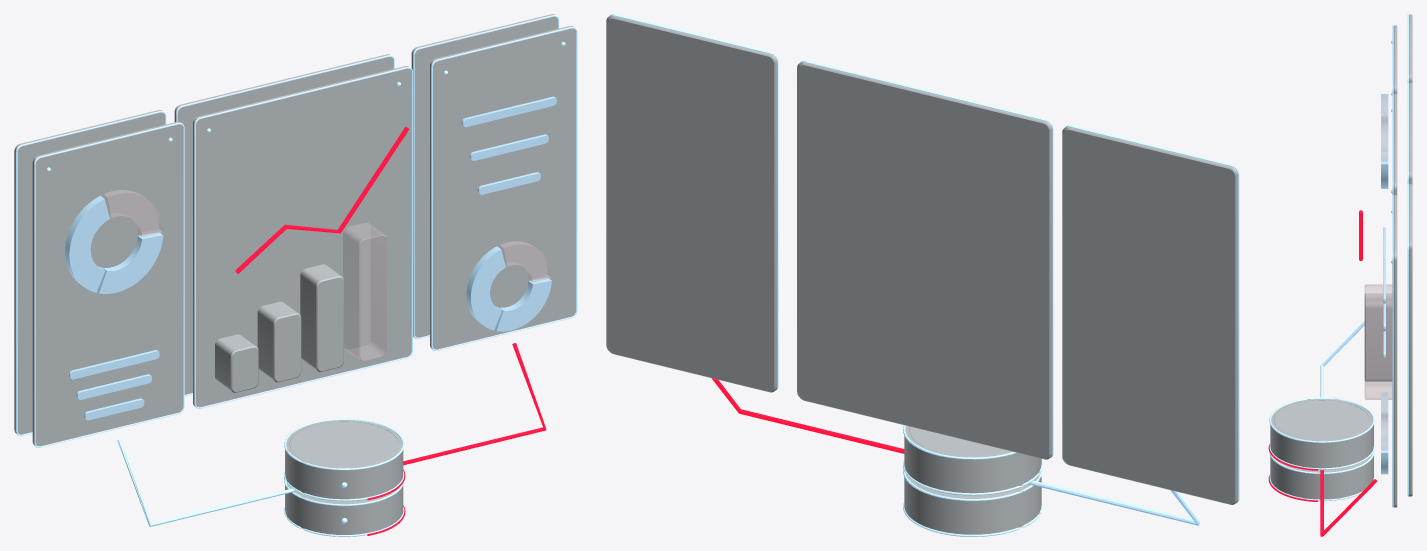
The model's file is 50-data-analysis.glb.
3 views of the same model, side by side, from view 1: azimuth 30°, elevation 25°; view 2: azimuth 150°, elevation 25°; view 3: azimuth 270°, elevation 25° (orthographic). The views are drawn at different scales.
Parts seen in each view (by area): view 1: BC thin clear technical glass, BC etched pale glass, BC cool glass edge, BC subtle ruby technical glass, BC ruby signal edge; view 2: BC thin clear technical glass, BC cool glass edge, BC ruby signal edge; view 3: BC thin clear technical glass, BC subtle ruby technical glass, BC cool glass edge, BC etched pale glass, BC ruby signal edge.
Boxes of the visible parts, left/top/right/bottom form: BC thin clear technical glass: left=14, top=14, right=575, bottom=534; BC etched pale glass: left=65, top=96, right=556, bottom=420; BC cool glass edge: left=16, top=15, right=577, bottom=536; BC subtle ruby technical glass: left=103, top=190, right=551, bottom=361; BC ruby signal edge: left=235, top=126, right=546, bottom=535; BC thin clear technical glass: left=606, top=15, right=1238, bottom=534; BC cool glass edge: left=610, top=14, right=1239, bottom=536; BC ruby signal edge: left=711, top=378, right=904, bottom=453; BC thin clear technical glass: left=1270, top=14, right=1412, bottom=507; BC subtle ruby technical glass: left=1364, top=95, right=1392, bottom=450; BC cool glass edge: left=1269, top=14, right=1408, bottom=507; BC etched pale glass: left=1381, top=94, right=1388, bottom=474; BC ruby signal edge: left=1268, top=210, right=1377, bottom=536.
Bounding box in the file's own units: 2.59 × 1.78 × 0.6673.
